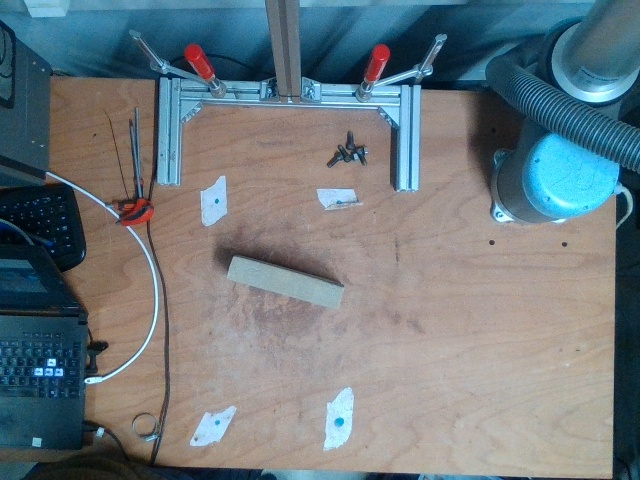brick-side: (228, 258, 343, 307)
